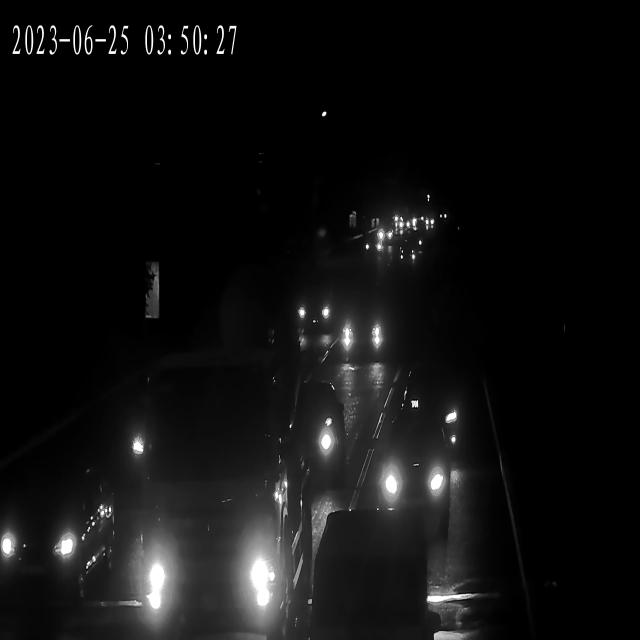Car: (133, 359, 304, 640), (314, 489, 439, 640), (1, 473, 127, 602), (274, 360, 348, 493), (375, 415, 449, 514), (400, 368, 466, 447), (334, 312, 389, 367), (291, 288, 335, 330), (397, 247, 418, 274), (362, 237, 386, 254), (372, 225, 393, 243), (374, 228, 395, 244), (390, 218, 409, 232), (417, 216, 435, 229)
